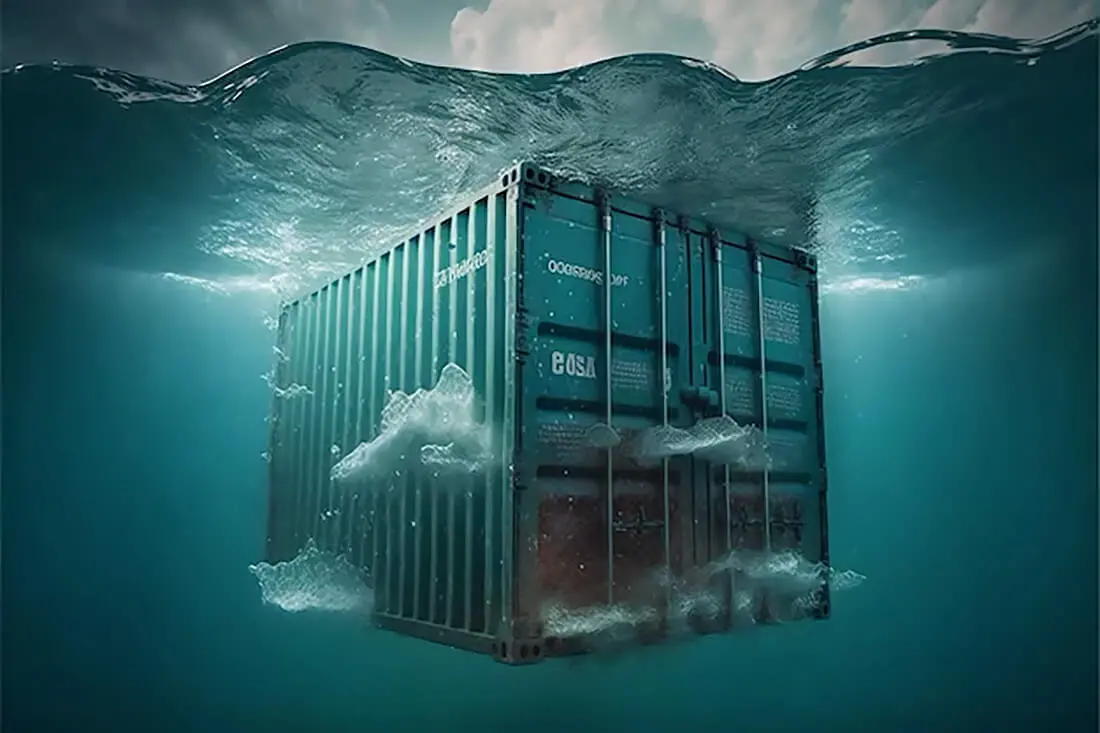Container: (261, 159, 836, 667)
